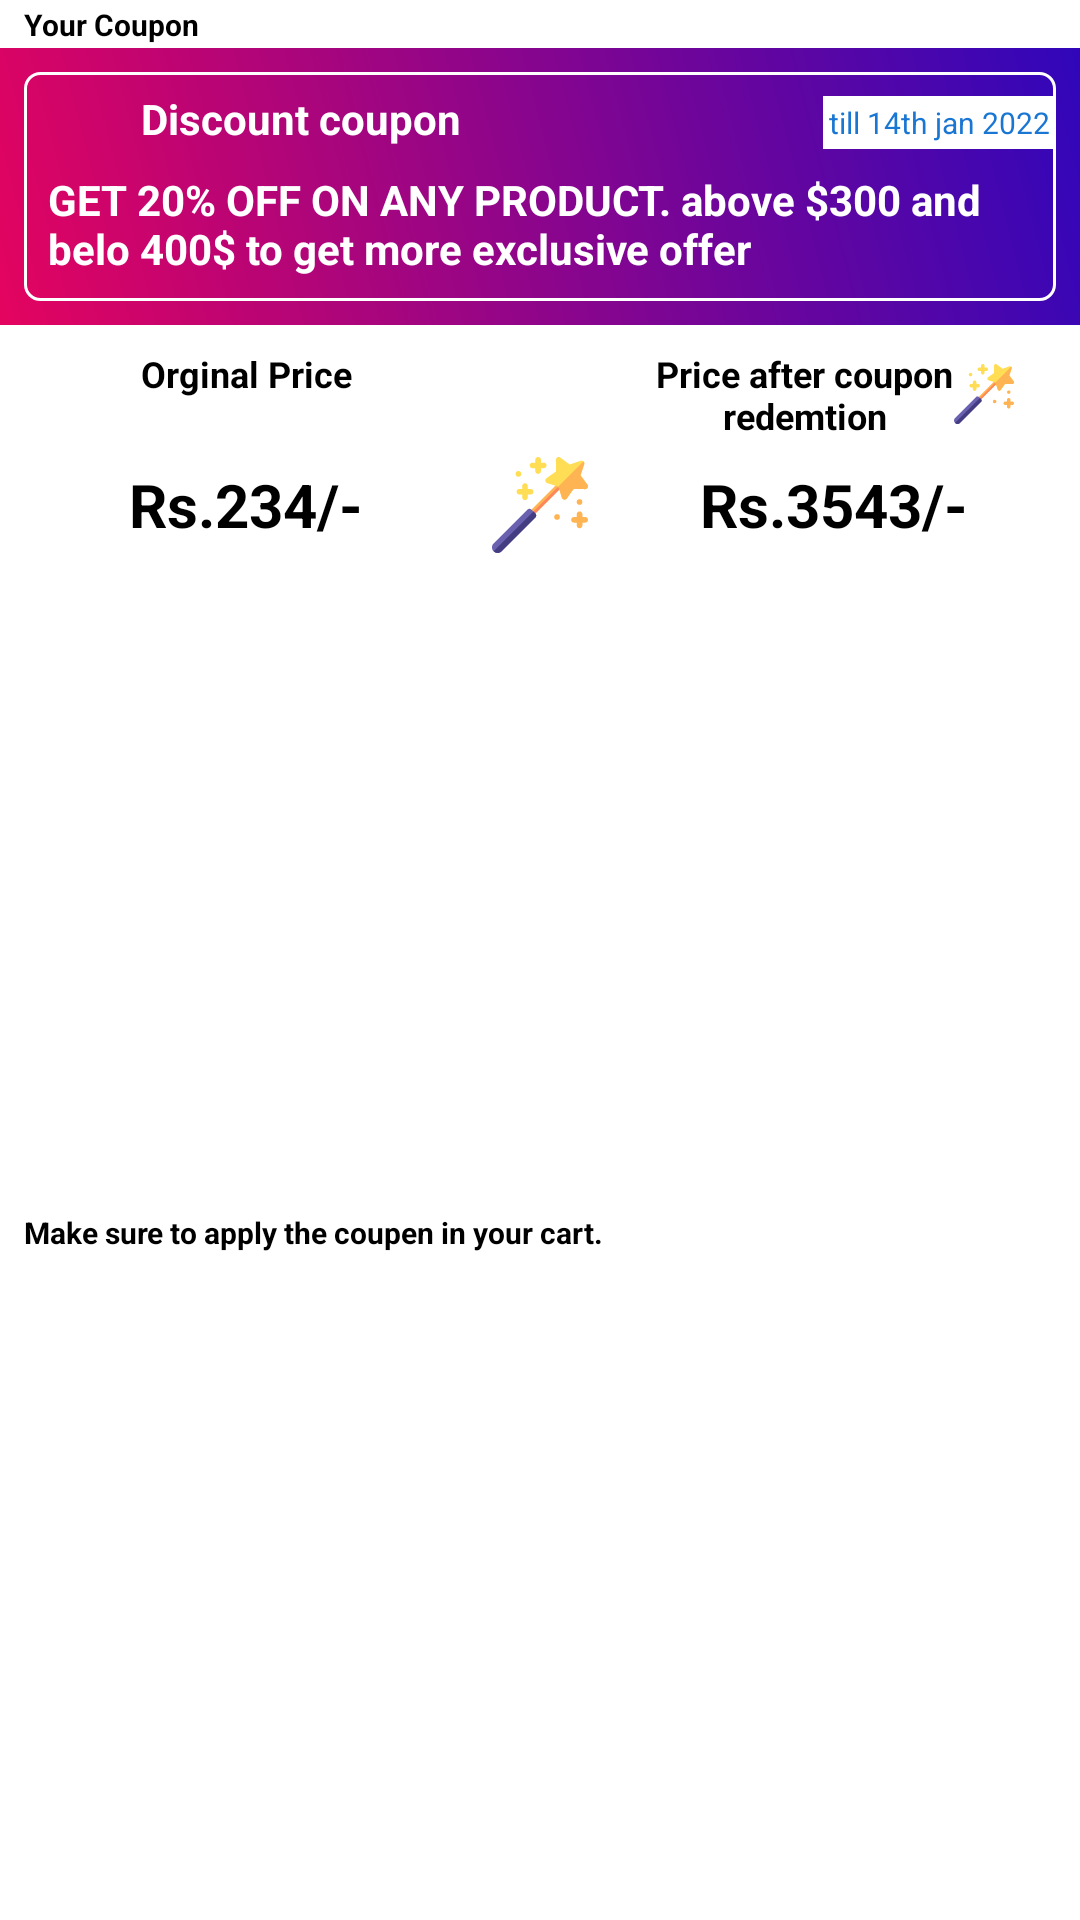

Where icons sit on this 1080 × 1920 app screen, as (left=x1, top=y1, right=x2, bottom=y2):
magic wand: (left=492, top=457, right=588, bottom=553)
